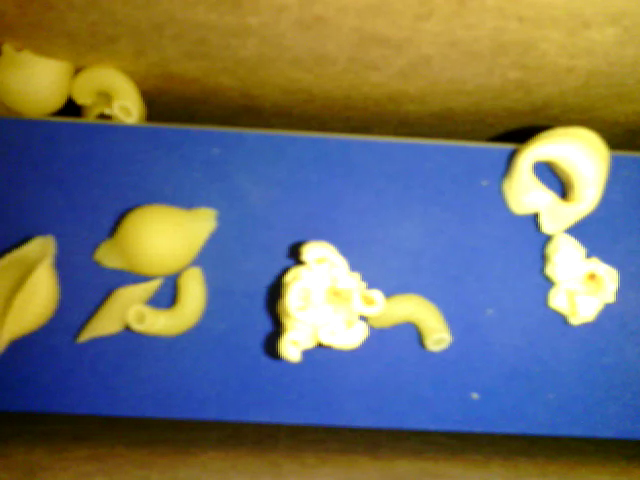elbow: (125, 265, 207, 336), (368, 291, 452, 353), (73, 65, 142, 122)
penne: (76, 277, 163, 343)
shell: (92, 204, 216, 279), (1, 235, 60, 352), (1, 43, 75, 117), (80, 93, 147, 125)
tortellini: (501, 125, 609, 232)
